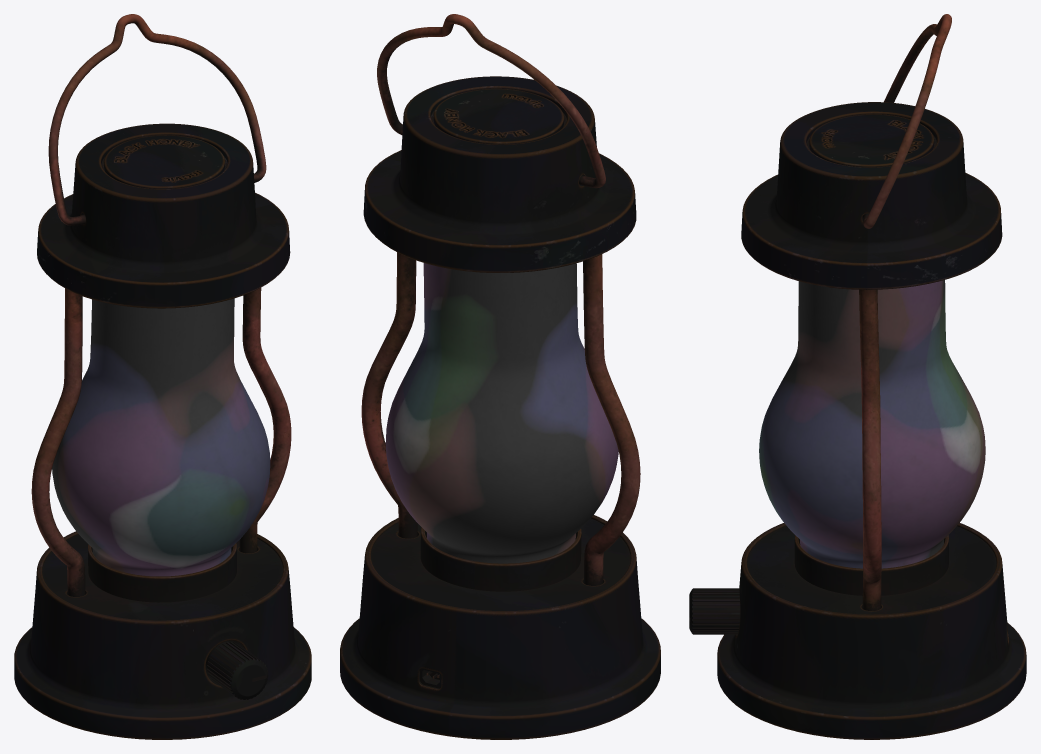
Rendered from small-lamp.obj.
3 views of the same model, side by side, from view 1: azimuth 30°, elevation 25°; view 2: azimuth 150°, elevation 25°; view 3: azimuth 270°, elevation 25° (orthographic). The views are drawn at different scales.
Visible parts, largest first — view 1: lantern.001_low_Sphere, lantern_low_Cylinder.001, lantern.003_low_Cylinder.018, lantern.002_low_Sphere.004, lantern.004_low_Circle.002, lantern.005_low_Cylinder.020; view 2: lantern.001_low_Sphere, lantern_low_Cylinder.001, lantern.003_low_Cylinder.018, lantern.002_low_Sphere.004, lantern.004_low_Circle.002; view 3: lantern_low_Cylinder.001, lantern.001_low_Sphere, lantern.003_low_Cylinder.018, lantern.002_low_Sphere.004, lantern.004_low_Circle.002, lantern.005_low_Cylinder.020.
Boxes of the visible parts, box(x1,y1,x2,y2) form: lantern.001_low_Sphere: box(52, 298, 270, 576); lantern_low_Cylinder.001: box(14, 531, 311, 739); lantern.003_low_Cylinder.018: box(37, 123, 290, 308); lantern.002_low_Sphere.004: box(31, 288, 291, 596); lantern.004_low_Circle.002: box(48, 14, 266, 225); lantern.005_low_Cylinder.020: box(205, 641, 268, 699); lantern.001_low_Sphere: box(385, 263, 618, 563); lantern_low_Cylinder.001: box(340, 515, 660, 739); lantern.003_low_Cylinder.018: box(363, 76, 636, 272); lantern.002_low_Sphere.004: box(361, 252, 640, 585); lantern.004_low_Circle.002: box(377, 14, 605, 188); lantern_low_Cylinder.001: box(717, 523, 1026, 739); lantern.001_low_Sphere: box(759, 280, 985, 568); lantern.003_low_Cylinder.018: box(741, 102, 1002, 289); lantern.002_low_Sphere.004: box(859, 289, 881, 610); lantern.004_low_Circle.002: box(863, 14, 951, 228); lantern.005_low_Cylinder.020: box(689, 588, 740, 634).
Bounding box in the file's own units: 12.65 × 29.99 × 13.76.
